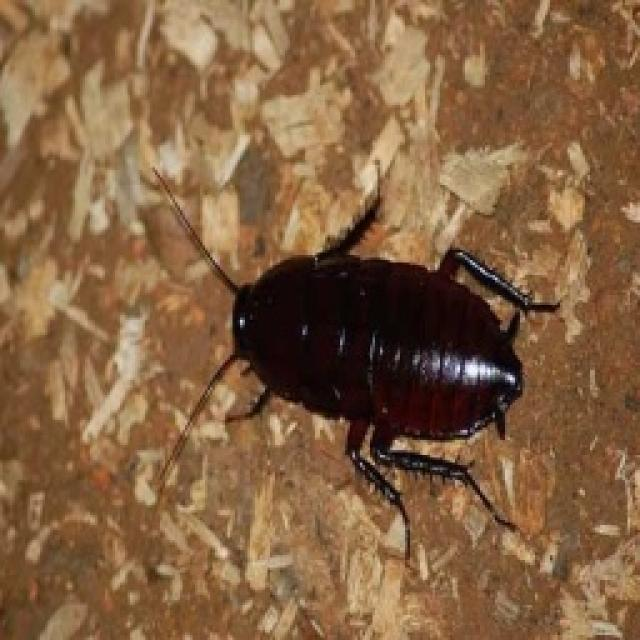cockroach: (133, 153, 566, 565)
